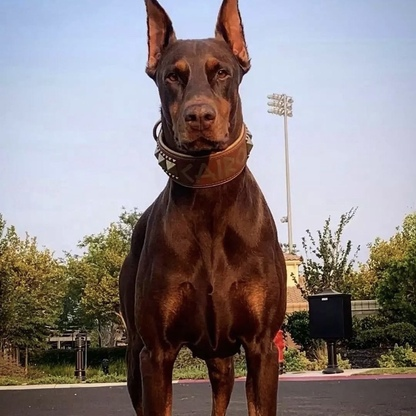doberman: (125, 4, 301, 410)
